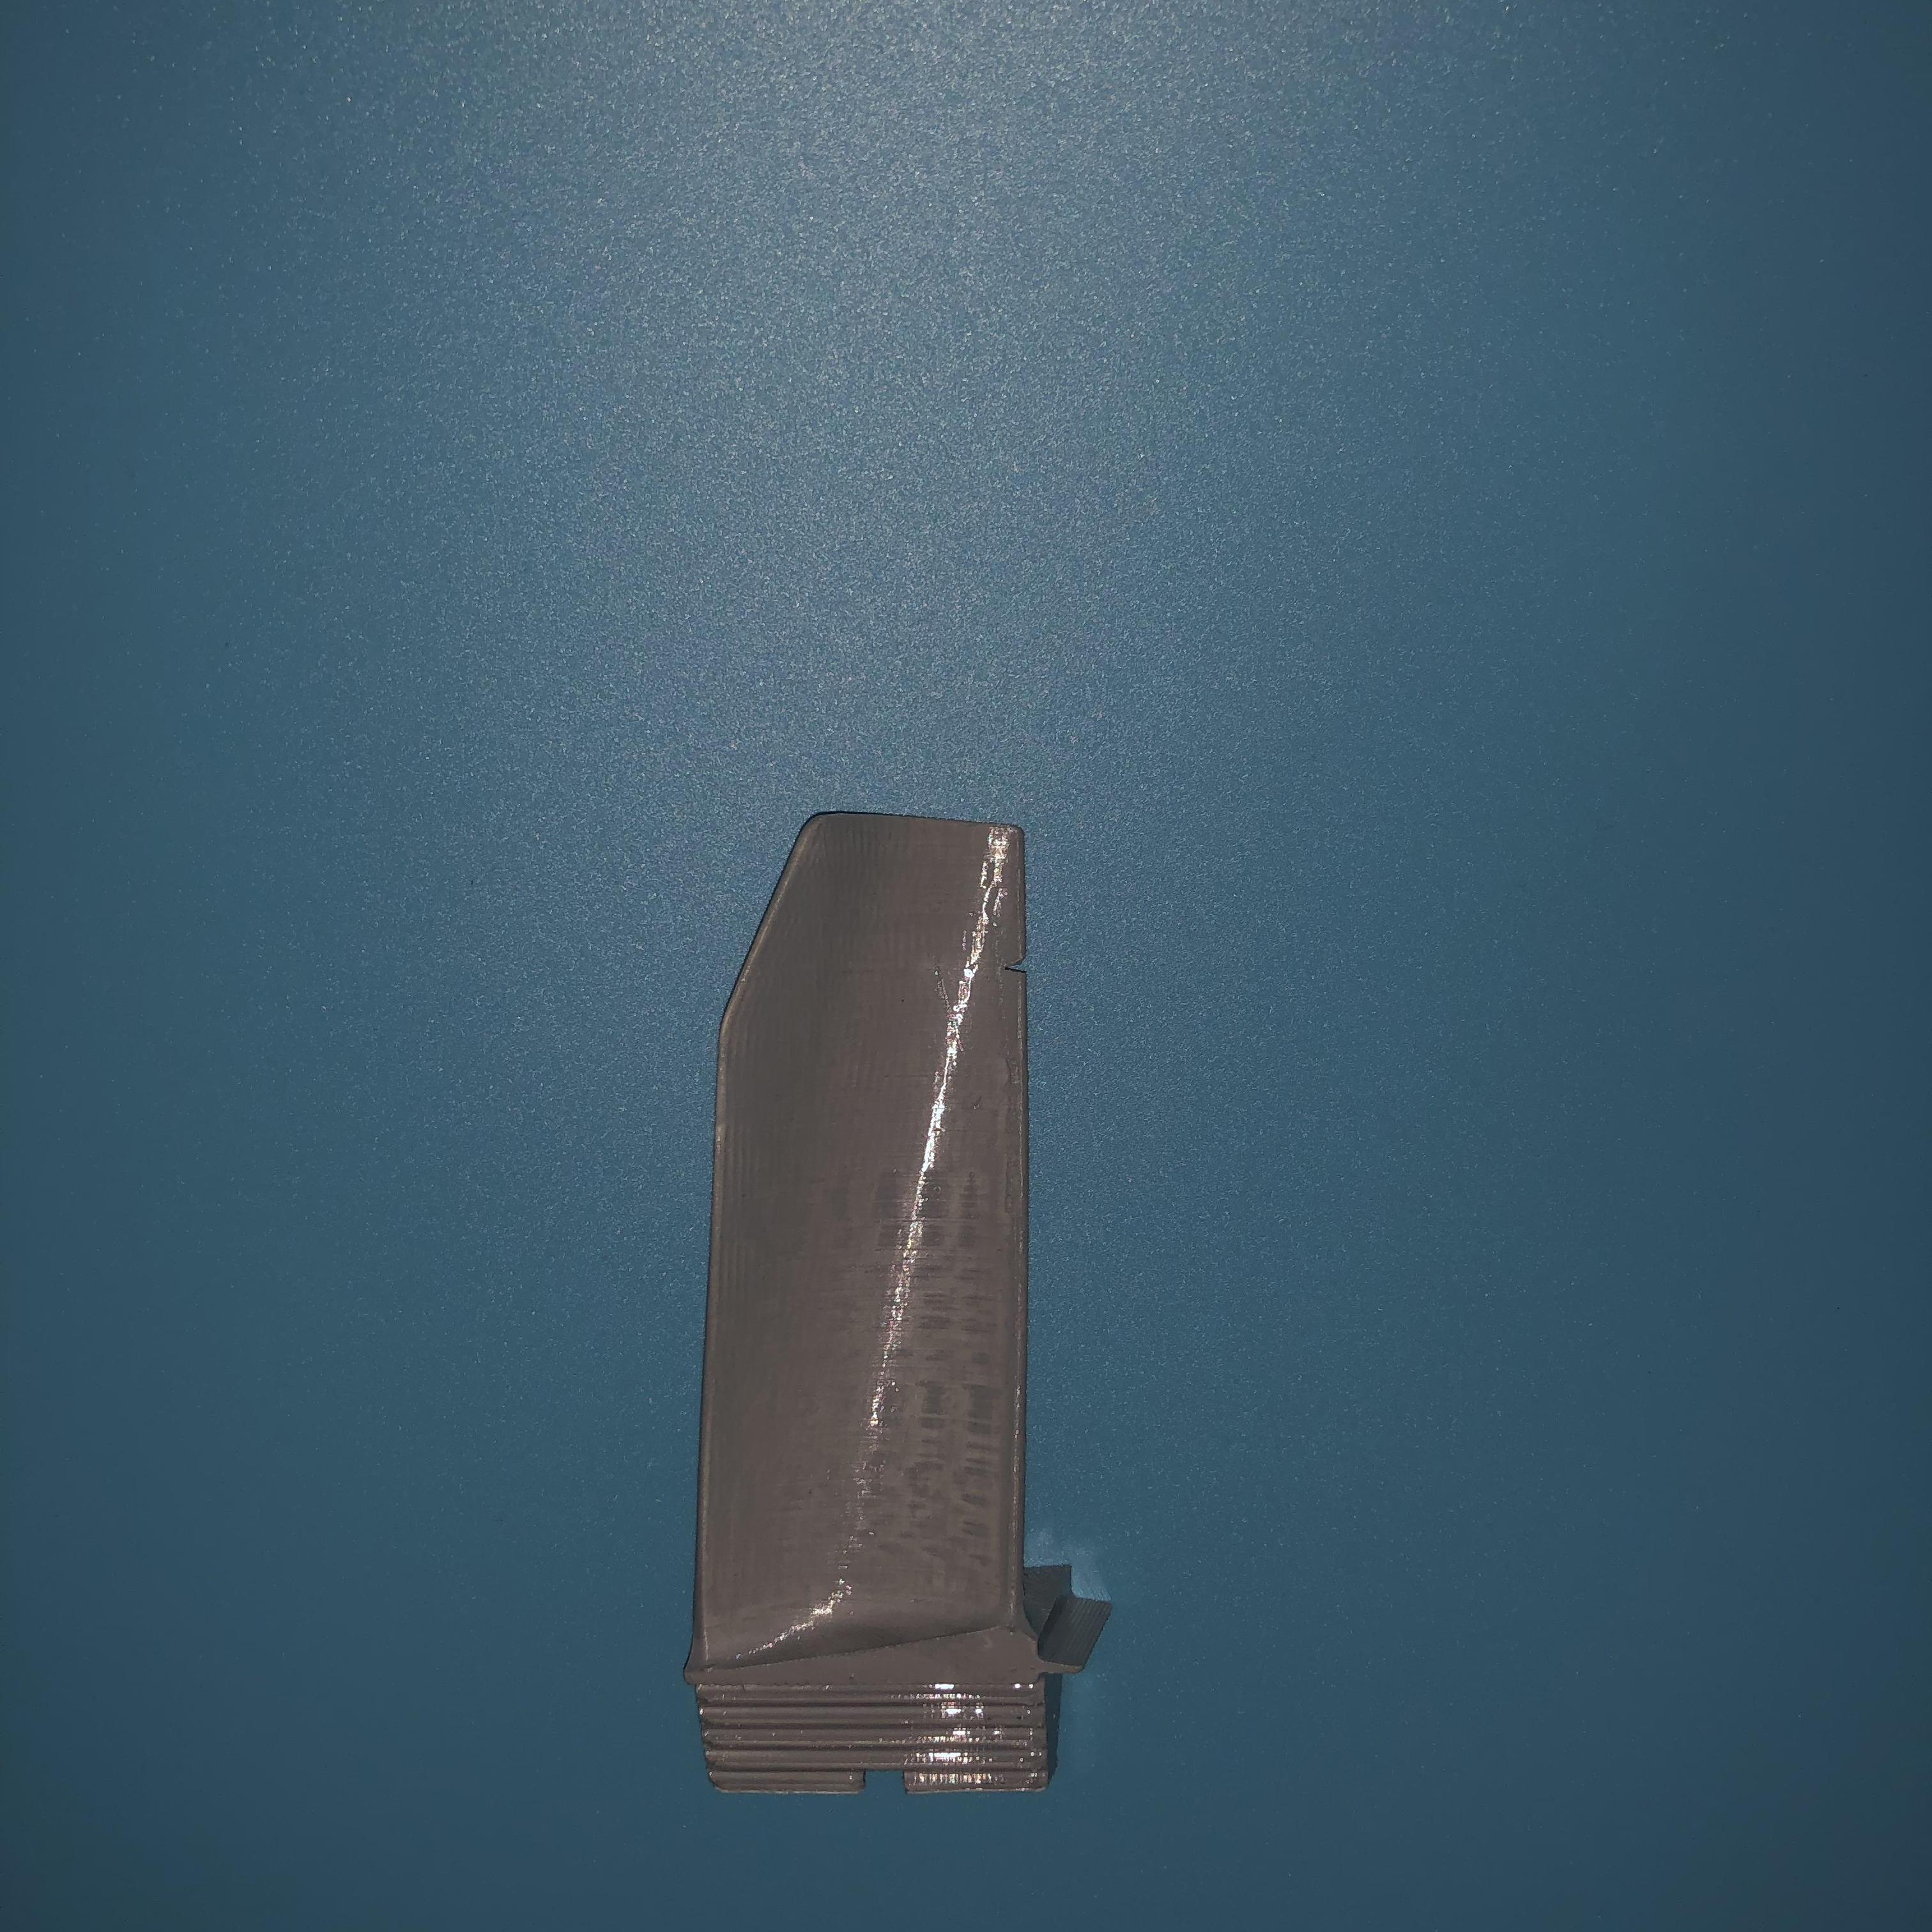groove: (998, 945, 1030, 977)
